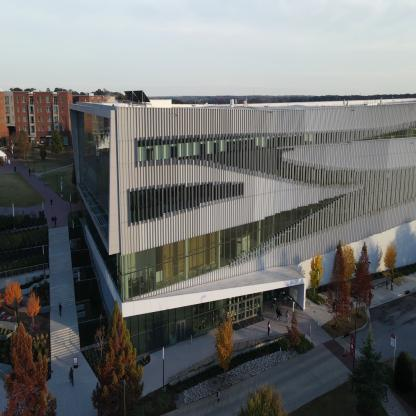Hunt Library: (61, 88, 415, 361)
